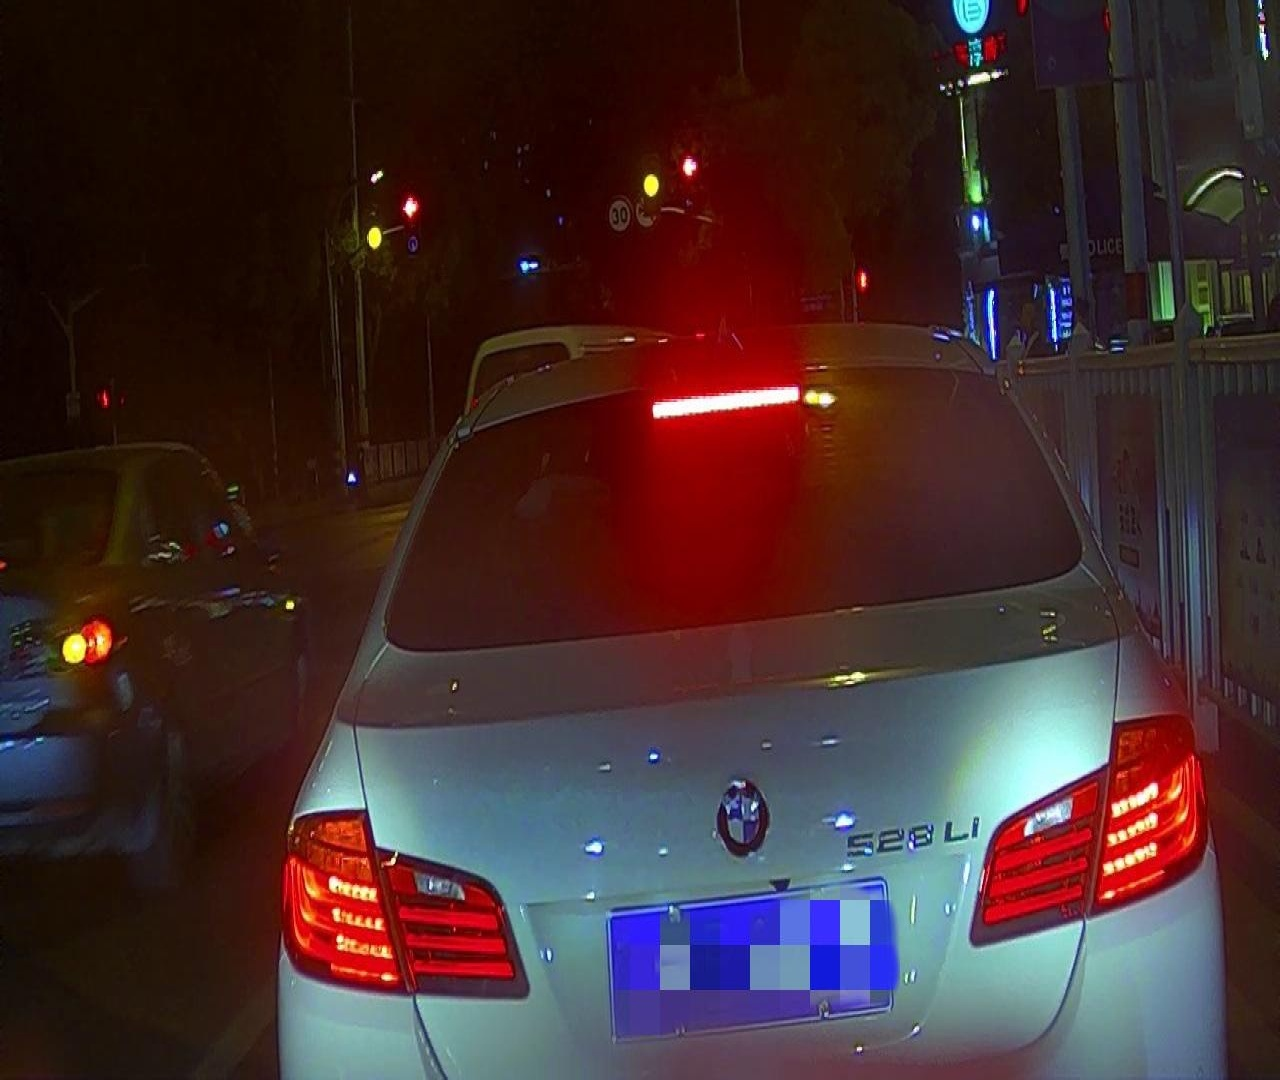red: (400, 190, 420, 223), (678, 150, 699, 181)
yellow: (639, 166, 662, 202), (364, 220, 383, 255)
